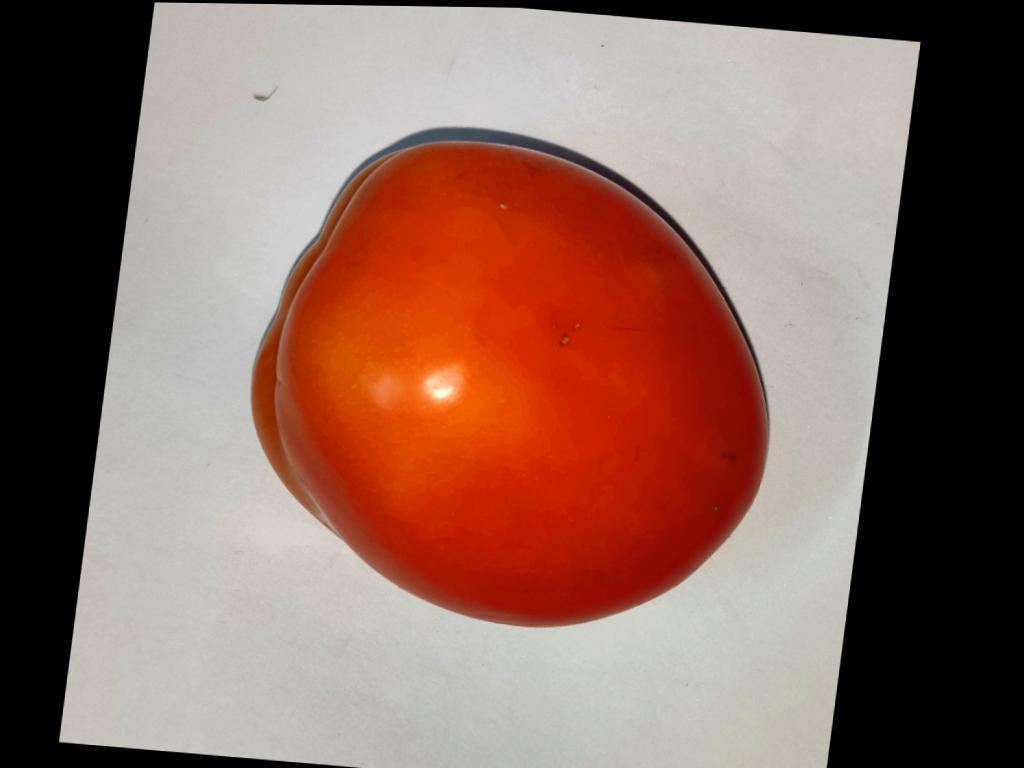tomato: (253, 140, 766, 624)
